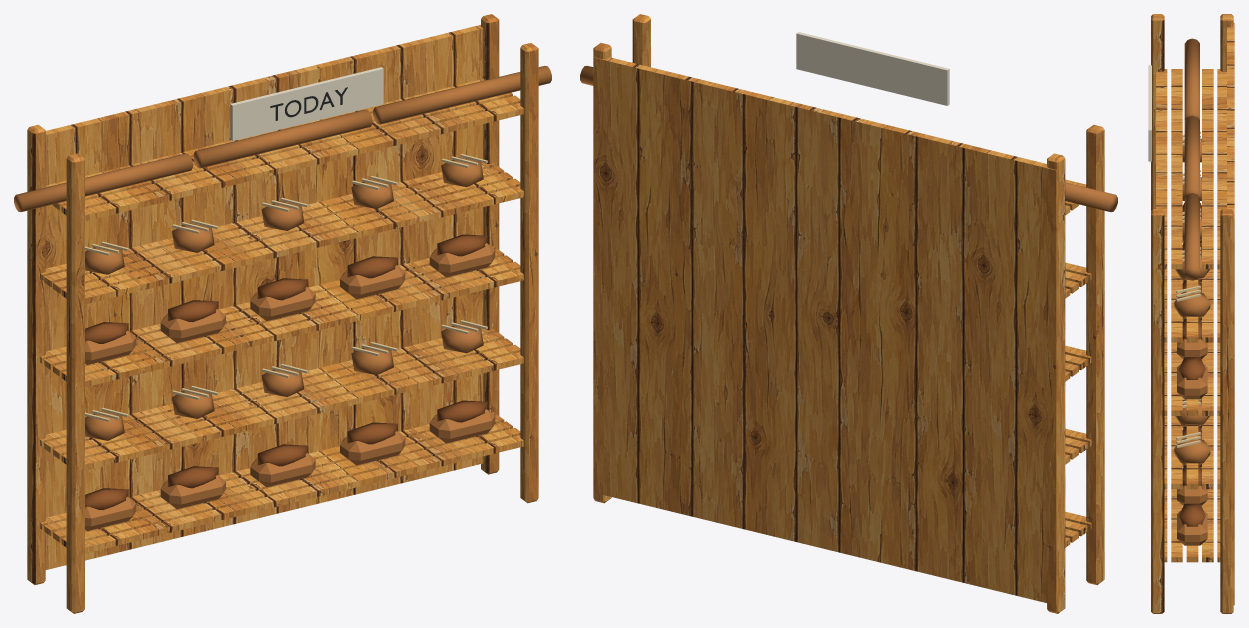
3 renders of one model, left to right at view 1: azimuth 30°, elevation 25°; view 2: azimuth 150°, elevation 25°; view 3: azimuth 270°, elevation 25°, orthographic. The views are drawn at different scales.
Parts seen in each view (by area): view 1: shop_oak, shop_crust, shop_crust_dark, shop_paper, shop_crumb; view 2: shop_oak, shop_paper, shop_crust; view 3: shop_oak, shop_crust, shop_crust_dark, shop_crumb, shop_paper.
Boxes of the visible parts, <box> form: shop_oak: <box>27,14,538,613</box>; shop_crust: <box>14,66,551,530</box>; shop_crust_dark: <box>85,234,487,509</box>; shop_paper: <box>230,67,383,140</box>; shop_crumb: <box>85,154,487,421</box>; shop_oak: <box>593,14,1104,613</box>; shop_paper: <box>796,32,949,105</box>; shop_crust: <box>580,66,1117,211</box>; shop_oak: <box>1151,14,1234,613</box>; shop_crust: <box>1174,38,1210,545</box>; shop_crust_dark: <box>1179,203,1205,526</box>; shop_crumb: <box>1176,131,1200,447</box>; shop_paper: <box>1148,65,1151,161</box>.
Size of the model in its own units: 2.8 by 2.39 by 0.46.
6 materials, 1 textured.
